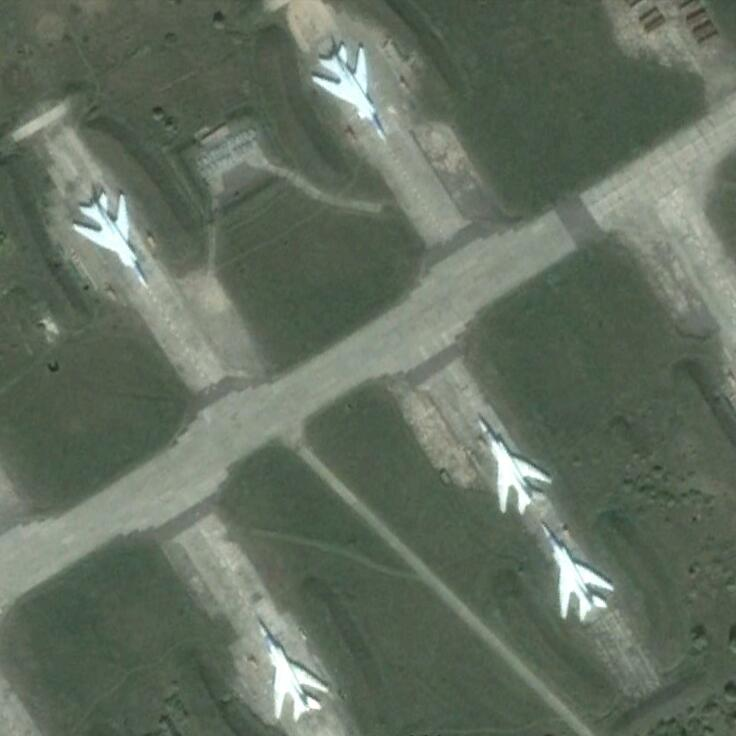A12: (468, 409, 554, 516), (251, 614, 331, 724), (312, 40, 393, 145), (71, 189, 153, 292), (537, 519, 616, 624)
